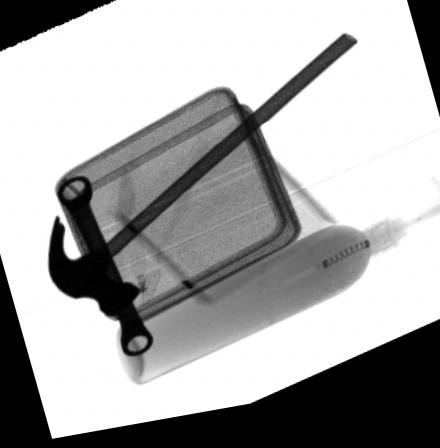Hammer: (48, 45, 358, 322)
Wrench: (57, 179, 155, 363)
